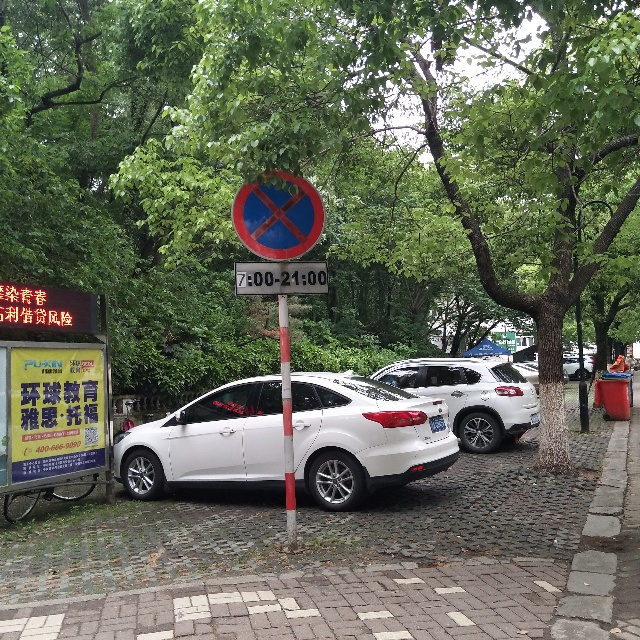stop: (241, 176, 320, 257)
